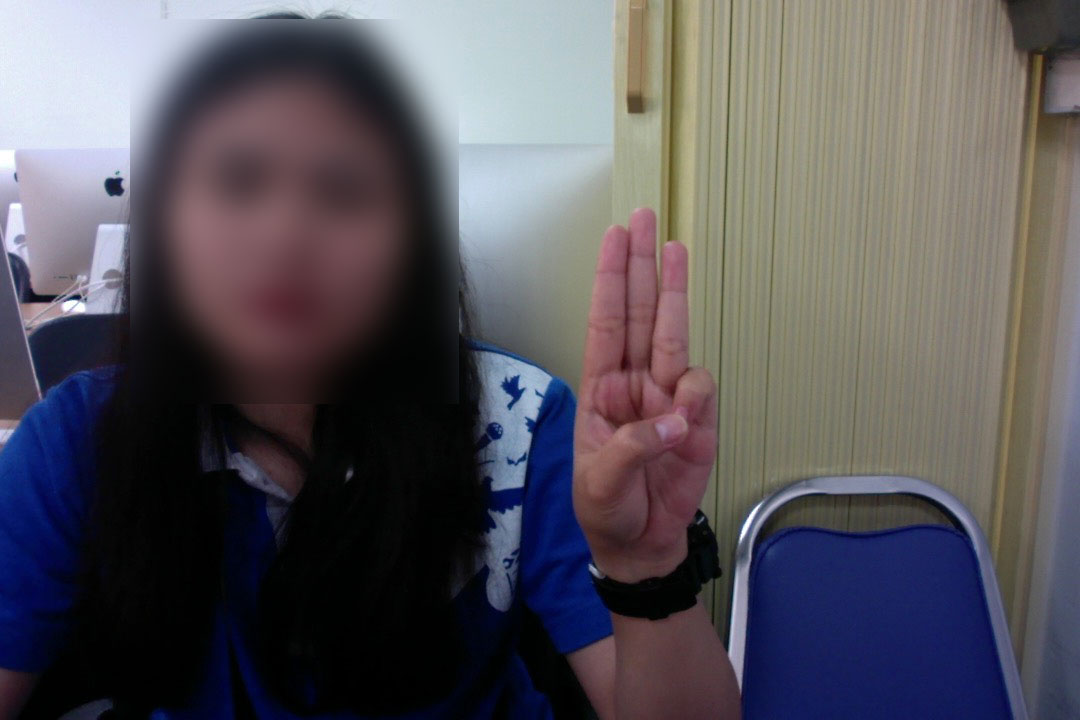wor: (566, 204, 730, 569)
